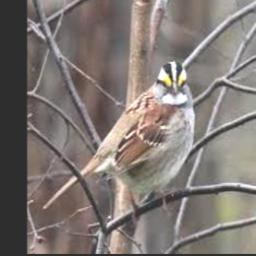Sparrow: (42, 61, 195, 212)
